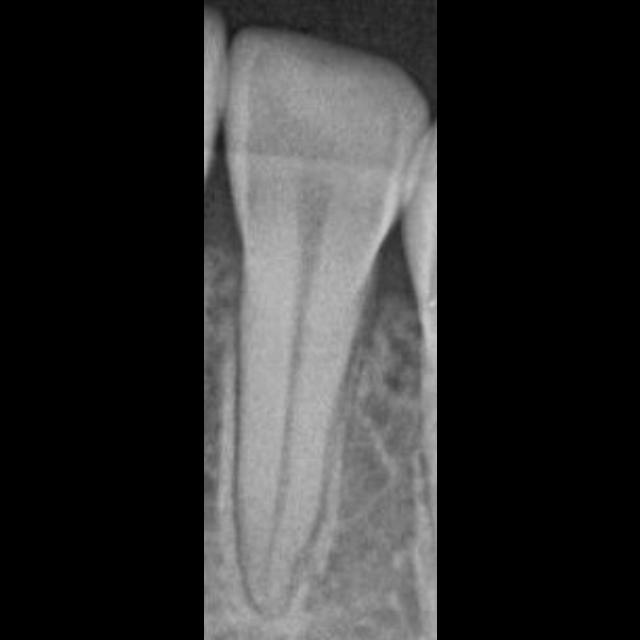tooth: (237, 46, 416, 615)
